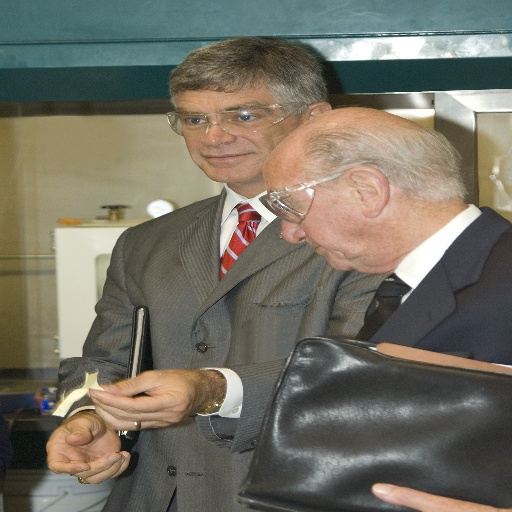hand: (77, 372, 237, 436), (44, 409, 130, 485), (368, 480, 511, 511)
